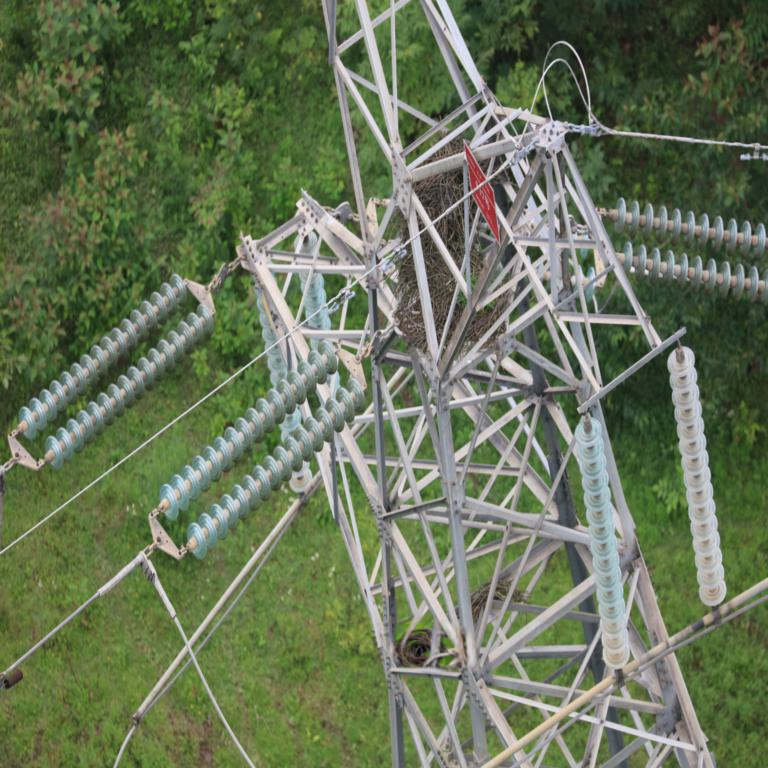nest: (405, 143, 506, 344), (400, 623, 438, 667)
